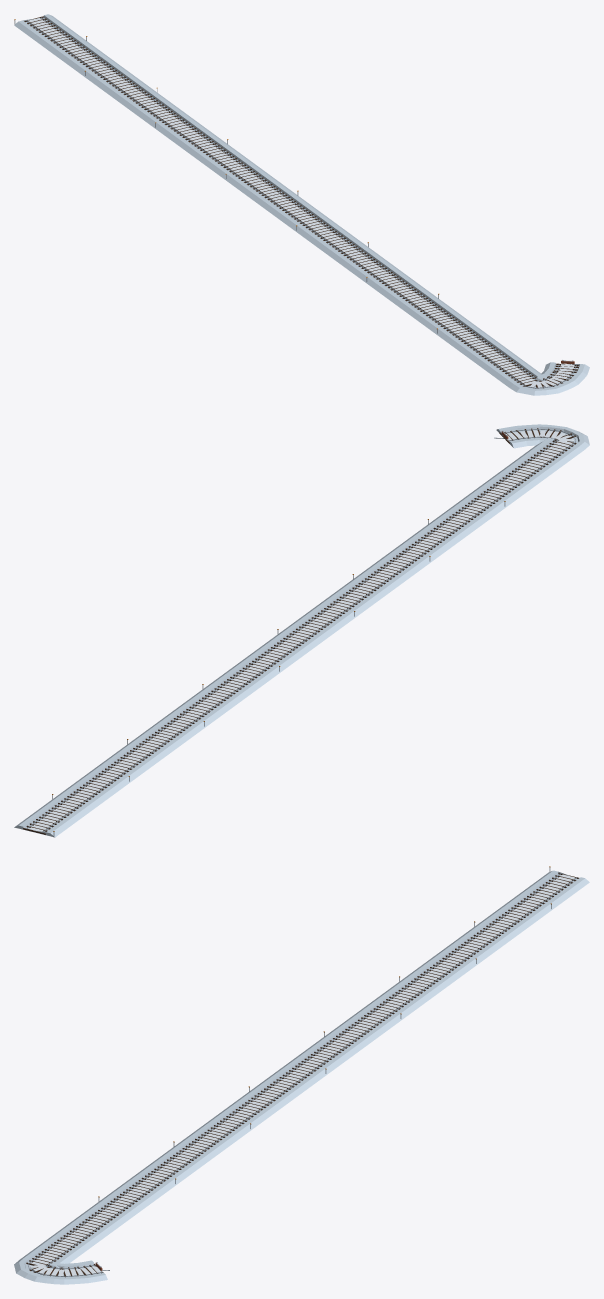
File: Frontier_Track.fbx
The picture shows the model from 3 angles, top to bottom: view 1: azimuth 30°, elevation 25°; view 2: azimuth 150°, elevation 25°; view 3: azimuth 330°, elevation 25°; orthographic projection. The views are drawn at different scales.
Visible parts, largest first — view 1: Track_Line; view 2: Track_Line; view 3: Track_Line.
Part boxes in pixels (left/top/right/bottom): Track_Line: left=14, top=14, right=589, bottom=395; Track_Line: left=14, top=424, right=589, bottom=837; Track_Line: left=14, top=866, right=589, bottom=1284.
Bounding box in the file's own units: 3210 × 225 × 35025.
